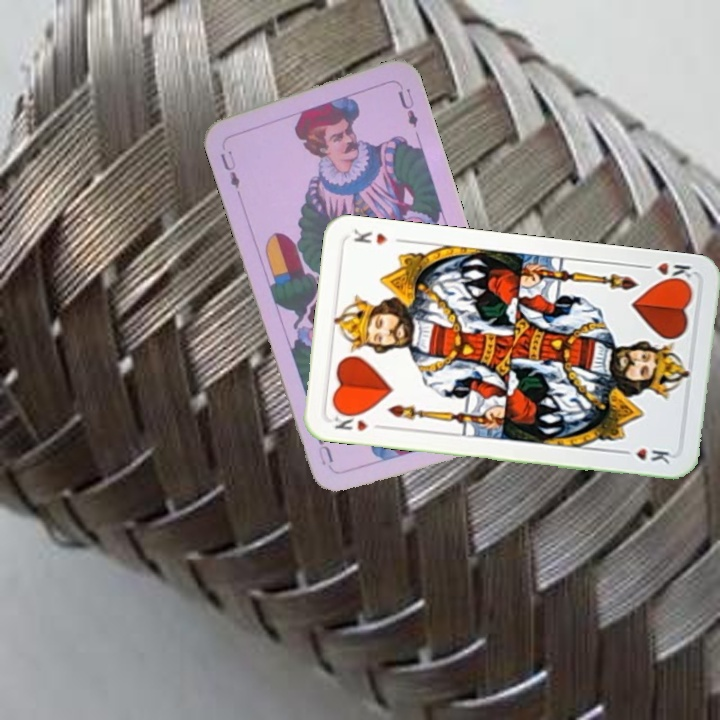EU: (216, 147, 243, 191)
HK: (636, 258, 696, 287), (327, 407, 370, 434)
